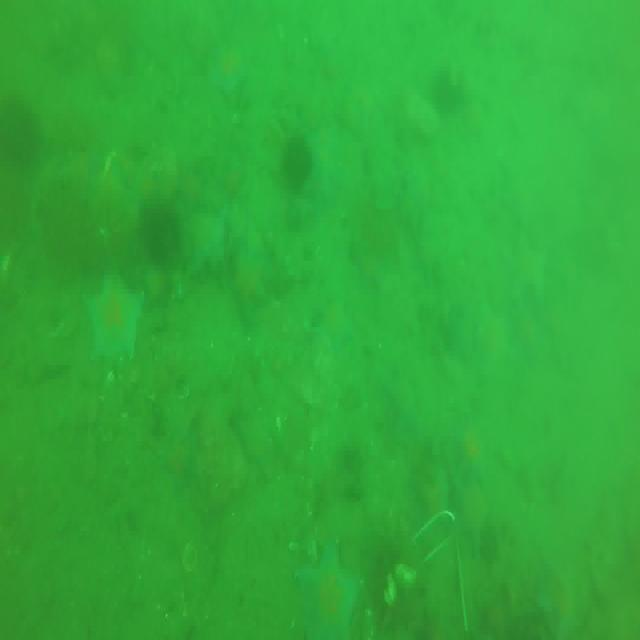echinus: (0, 97, 41, 165), (142, 206, 179, 263), (282, 132, 314, 195), (436, 63, 464, 110)
scallop: (180, 544, 200, 572), (393, 563, 416, 586), (380, 579, 399, 604)
starfish: (290, 541, 366, 640), (80, 275, 142, 361), (381, 368, 426, 436), (232, 236, 264, 324), (532, 576, 576, 640), (207, 42, 246, 103), (453, 417, 486, 479), (189, 212, 219, 280), (316, 296, 352, 350)
